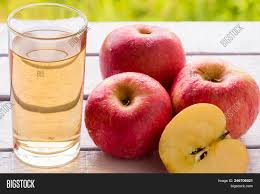apple: (85, 71, 169, 155), (171, 62, 259, 133), (99, 26, 188, 86)
damaged_apple: (155, 102, 251, 175)
